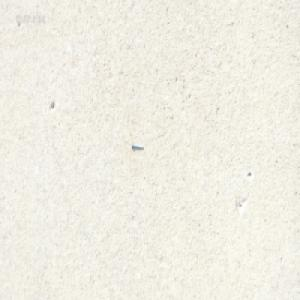Nail: (130, 141, 143, 149)
